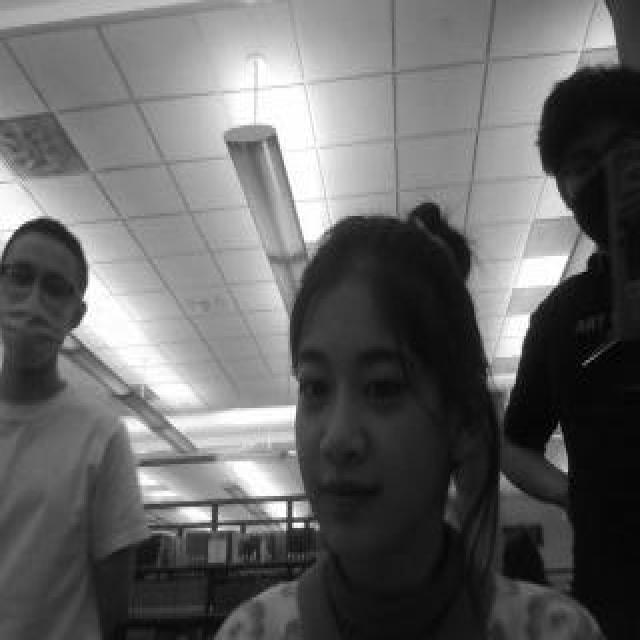Focused: (294, 260, 446, 558)
